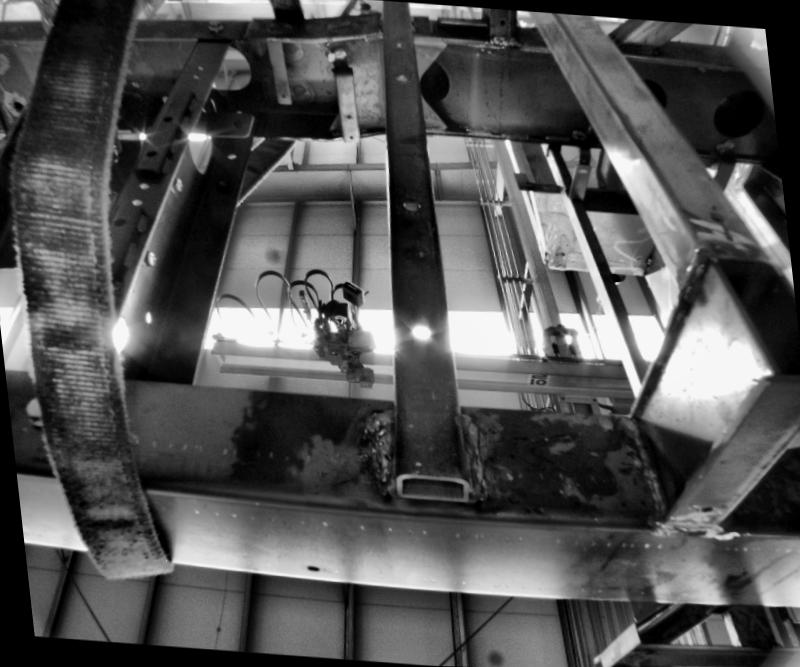bolt: (165, 174, 187, 196), (135, 252, 157, 272)
bracket: (324, 47, 362, 151), (266, 35, 297, 103), (556, 152, 596, 200)
hole: (399, 310, 432, 340), (397, 196, 423, 214), (136, 302, 150, 318), (695, 498, 709, 510), (391, 73, 406, 81), (138, 182, 150, 191), (130, 197, 143, 205), (303, 563, 316, 569), (572, 166, 584, 172), (216, 179, 226, 186), (497, 17, 506, 24), (226, 154, 236, 160), (344, 115, 352, 122), (390, 41, 400, 46), (279, 91, 286, 97), (346, 135, 354, 140)
welding: (450, 404, 498, 495), (360, 396, 386, 500)
